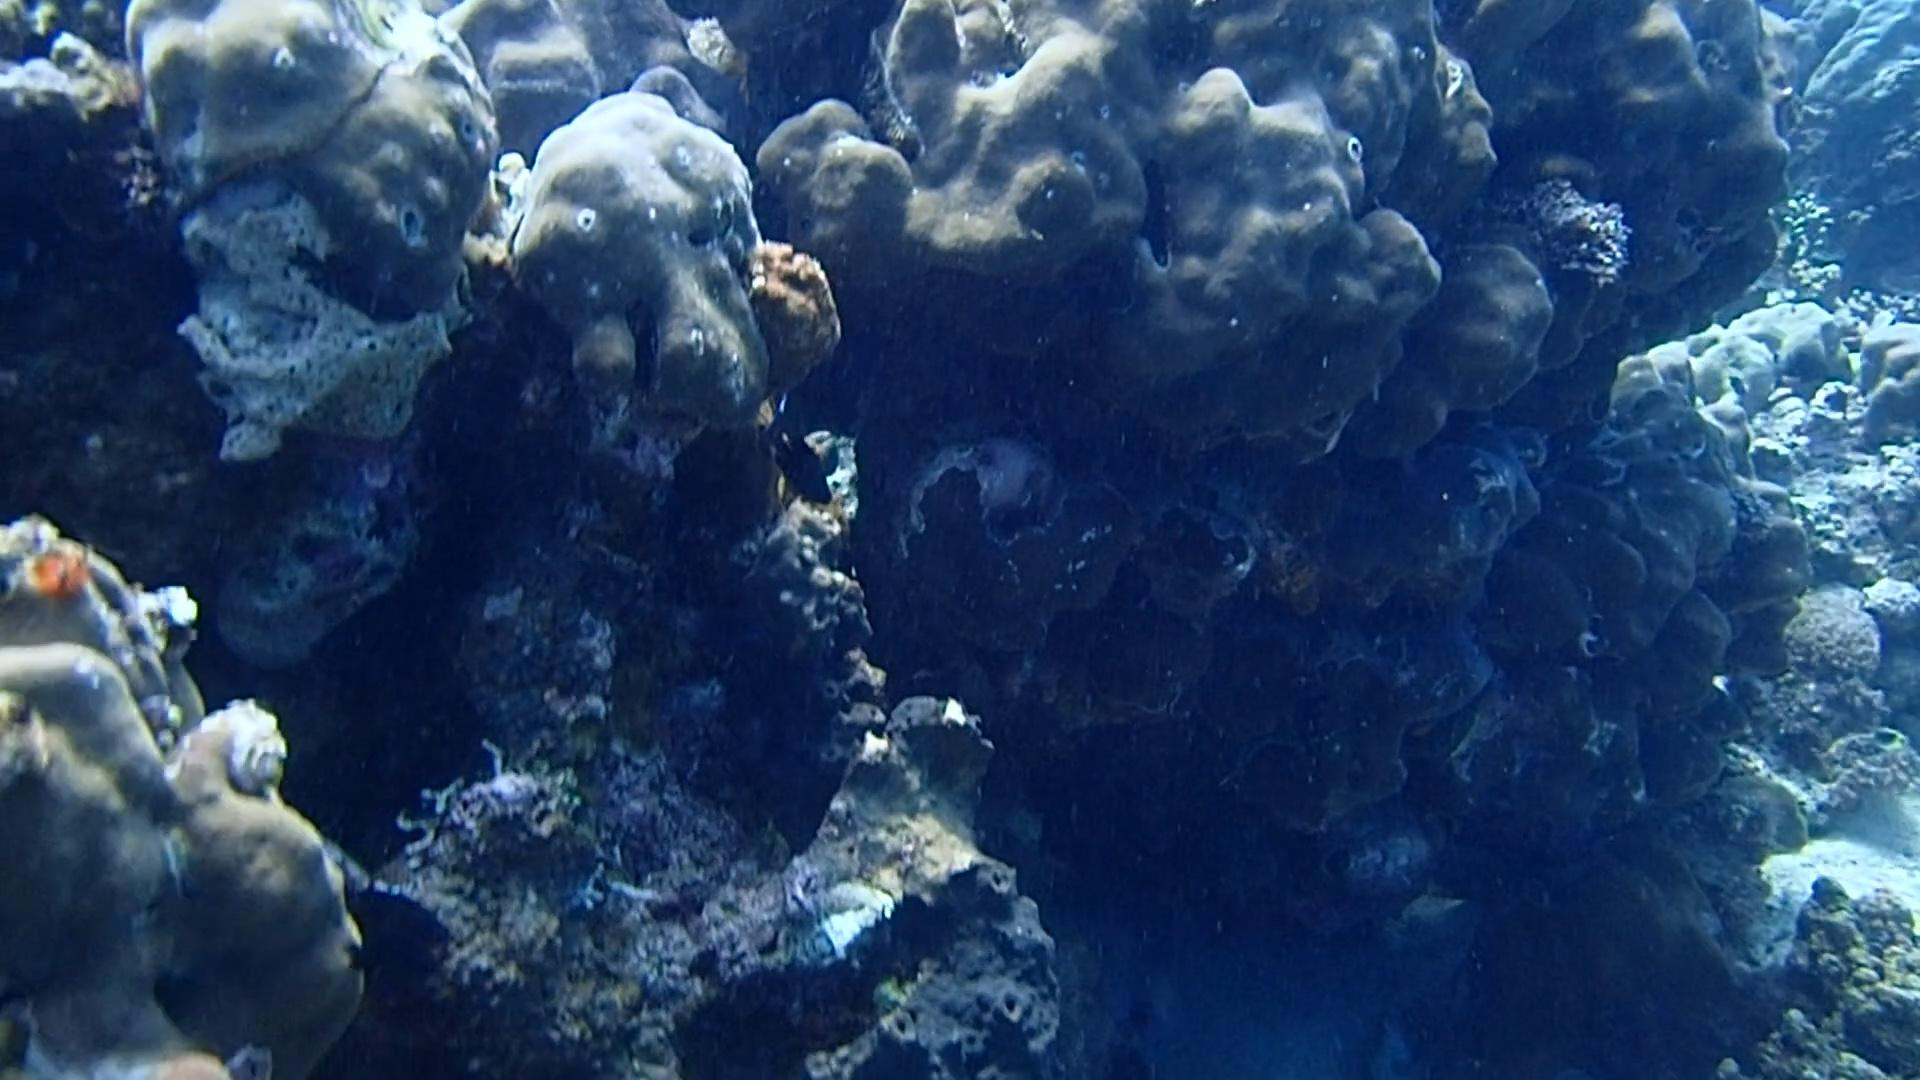Dark Fish: (342, 878, 459, 955), (338, 930, 456, 992), (766, 422, 836, 517)
